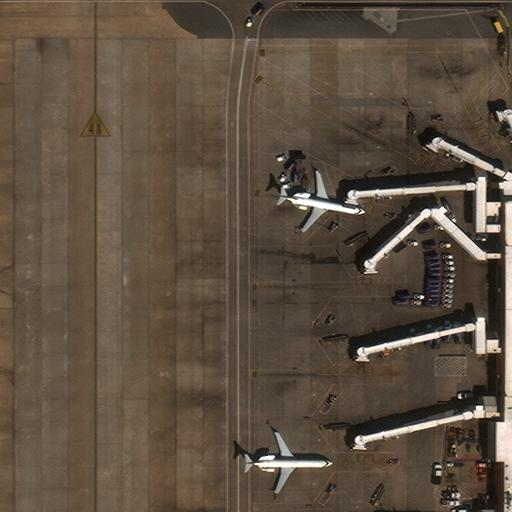Medium Civil Transport: (245, 432, 333, 493), (280, 174, 365, 232)
